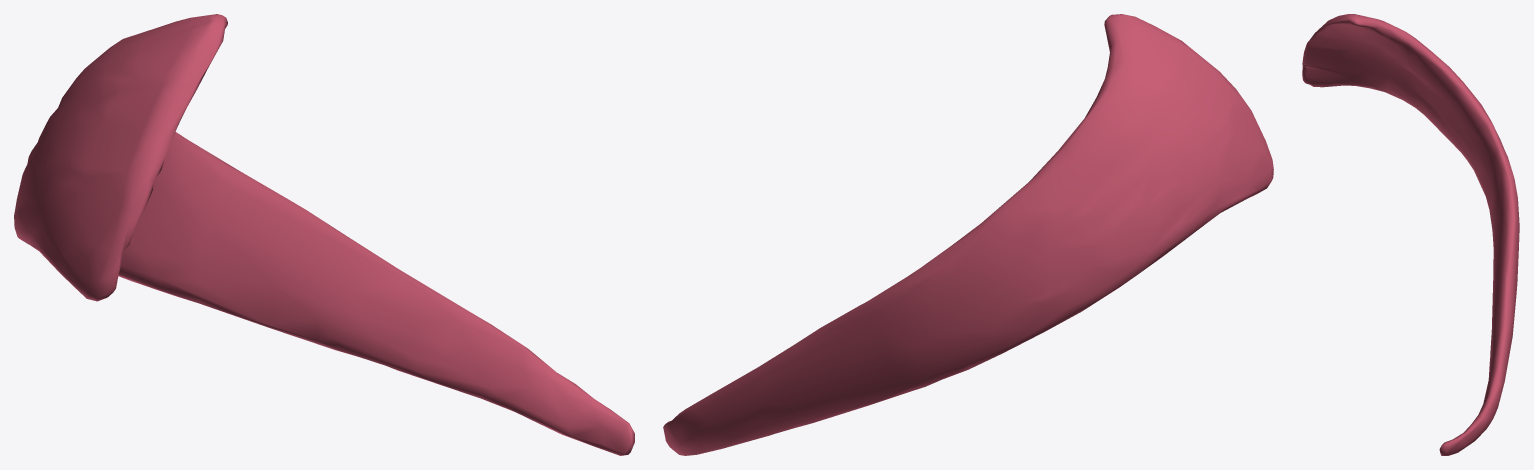
3 views of the same model, side by side, from view 1: azimuth 30°, elevation 25°; view 2: azimuth 150°, elevation 25°; view 3: azimuth 270°, elevation 25° (orthographic). The views are drawn at different scales.
Visible parts, largest first — view 1: 右侧下斜肌; view 2: 右侧下斜肌; view 3: 右侧下斜肌.
Boxes of the visible parts, box(x1,y1,x2,y2) form: 右侧下斜肌: box(14, 14, 634, 455); 右侧下斜肌: box(663, 14, 1273, 455); 右侧下斜肌: box(1302, 14, 1519, 455).
Size of the model in its own units: 0.0433 by 0.0384 by 0.0238.
